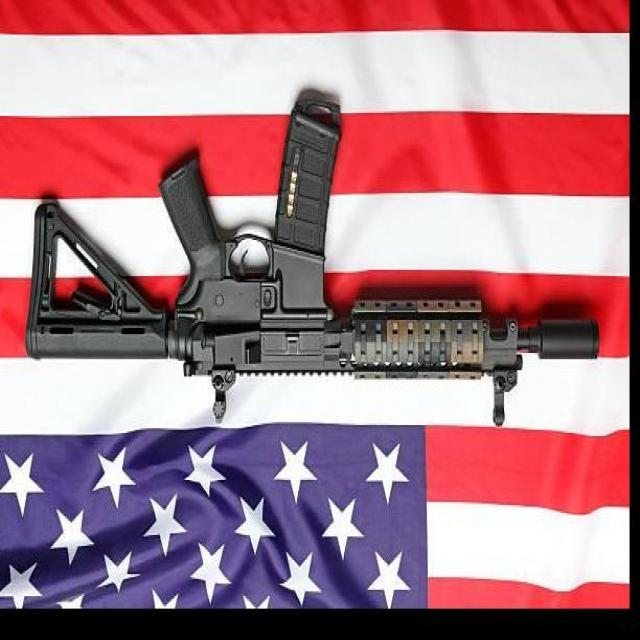weapon: (24, 96, 600, 428)
